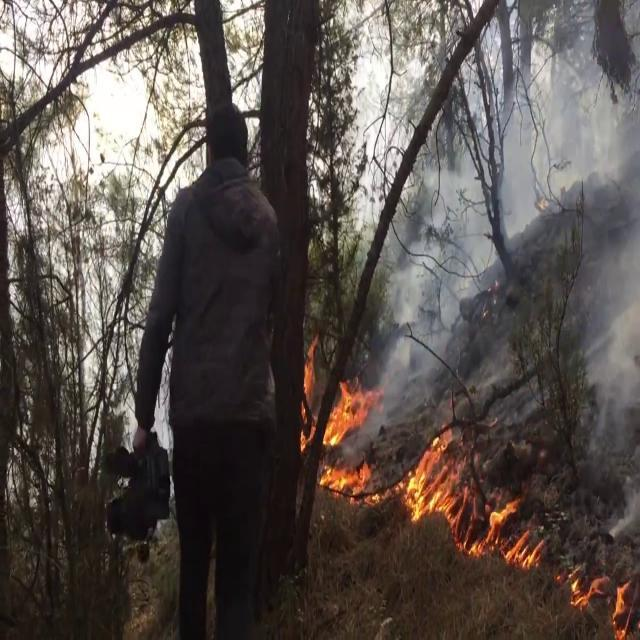Fire: (480, 498, 640, 640), (392, 433, 496, 559), (293, 340, 375, 448), (317, 465, 374, 500)
Smoke: (372, 56, 640, 357)
